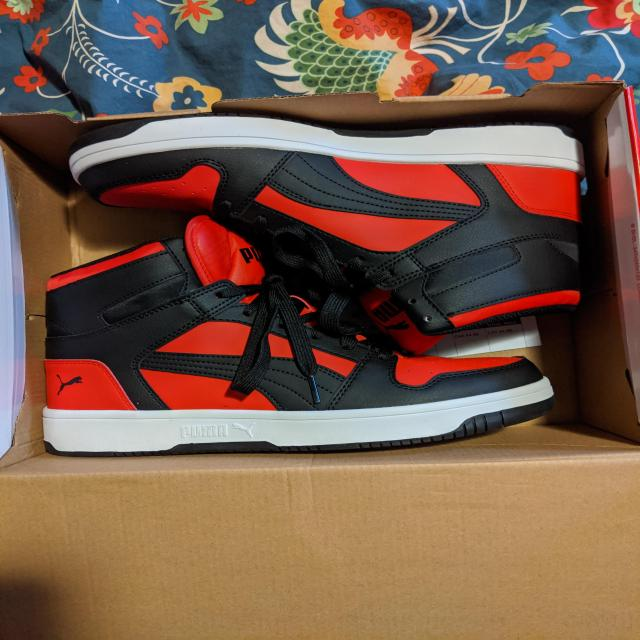shoe: (39, 208, 561, 465), (54, 103, 610, 340)
